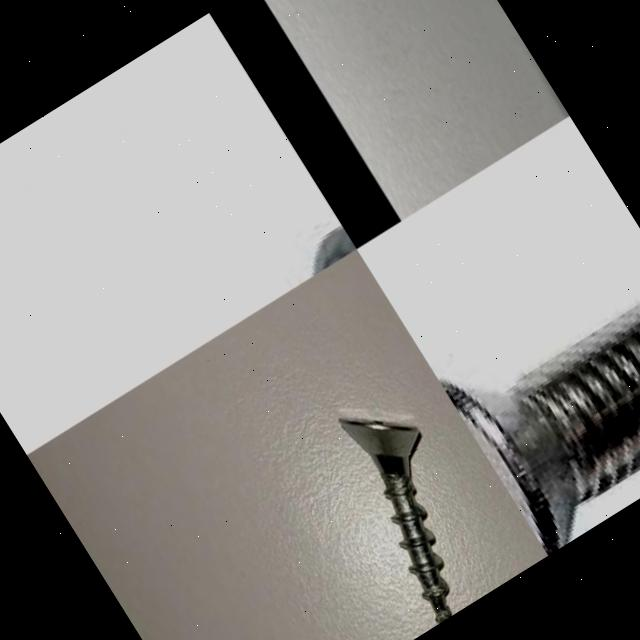Screw: (436, 303, 640, 555), (339, 416, 451, 623)
